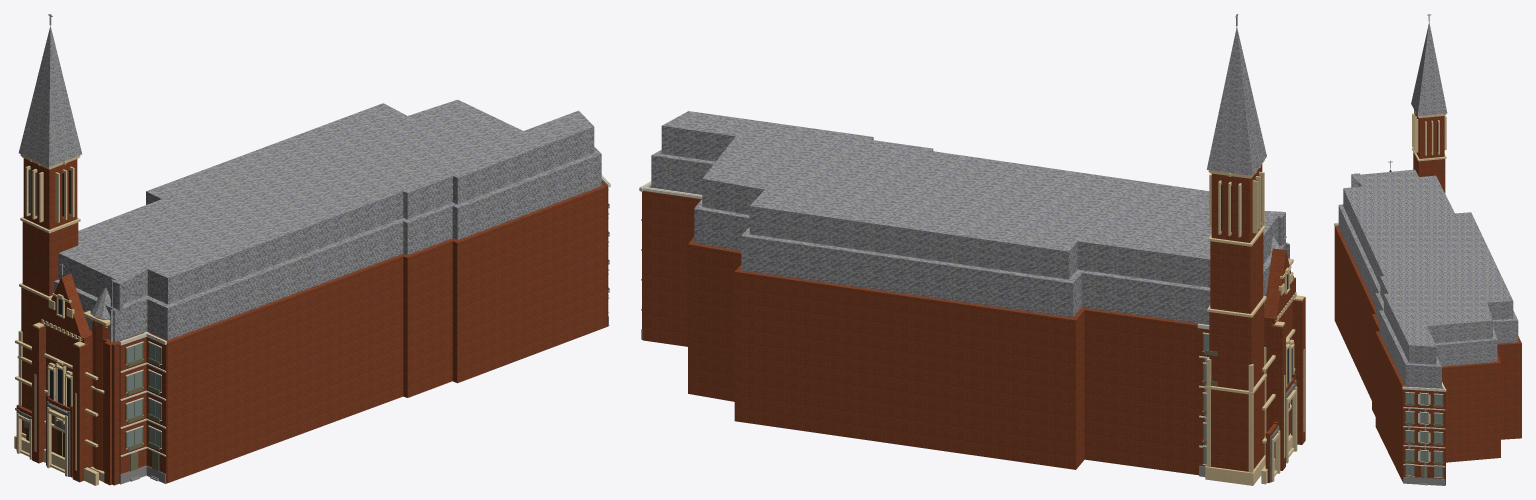
3 views of the same model, side by side, from view 1: azimuth 30°, elevation 25°; view 2: azimuth 150°, elevation 25°; view 3: azimuth 270°, elevation 25° (orthographic). The views are drawn at different scales.
Visible parts, largest first — view 1: bldg_501410385, bldg_501410385_roof_b, bldg_501410385_roof_a, bldg_501410385_tower, bldg_501410385_front, bldg_501410385_facade1, bldg_501410385_facade2, bldg_501410385_turret; view 2: bldg_501410385, bldg_501410385_roof_b, bldg_501410385_tower, bldg_501410385_roof_a, bldg_501410385_front, bldg_501410385_facade5; view 3: bldg_501410385_roof_b, bldg_501410385, bldg_501410385_roof_a, bldg_501410385_facade3, bldg_501410385_tower.
Part boxes in pixels (x1,y1,x2,y2): bldg_501410385: [90, 181, 607, 485]; bldg_501410385_roof_b: [58, 99, 594, 310]; bldg_501410385_roof_a: [54, 147, 601, 342]; bldg_501410385_tower: [17, 14, 81, 438]; bldg_501410385_front: [14, 263, 98, 485]; bldg_501410385_facade1: [119, 332, 148, 484]; bldg_501410385_facade2: [144, 332, 166, 483]; bldg_501410385_turret: [83, 287, 110, 482]; bldg_501410385: [643, 186, 1295, 475]; bldg_501410385_roof_b: [661, 111, 1285, 287]; bldg_501410385_tower: [1205, 14, 1266, 485]; bldg_501410385_roof_a: [651, 150, 1289, 324]; bldg_501410385_front: [1261, 236, 1305, 484]; bldg_501410385_facade5: [1197, 323, 1217, 476]; bldg_501410385_roof_b: [1343, 169, 1513, 364]; bldg_501410385: [1334, 225, 1521, 484]; bldg_501410385_roof_a: [1338, 204, 1518, 388]; bldg_501410385_facade3: [1402, 386, 1446, 485]; bldg_501410385_tower: [1411, 14, 1447, 193].
Bounding box in the file's own units: 78.19 × 55.33 × 32.27.
Materials: 16 (5 with a texture image).
